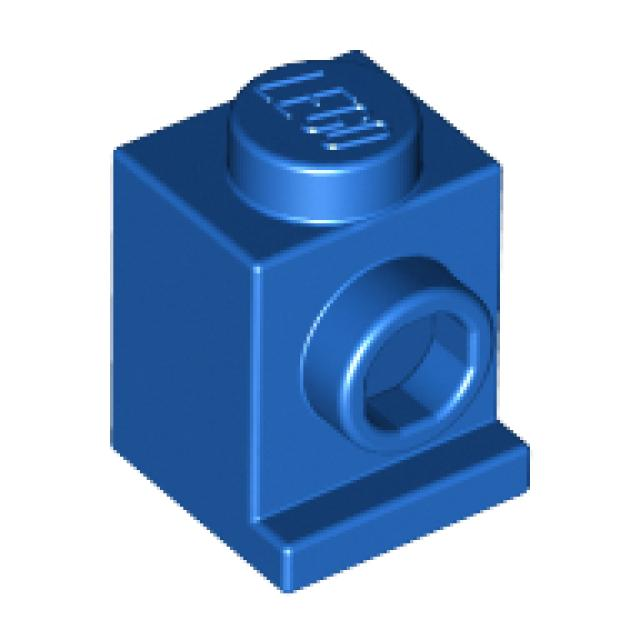Blue_Small: (110, 50, 533, 597)
